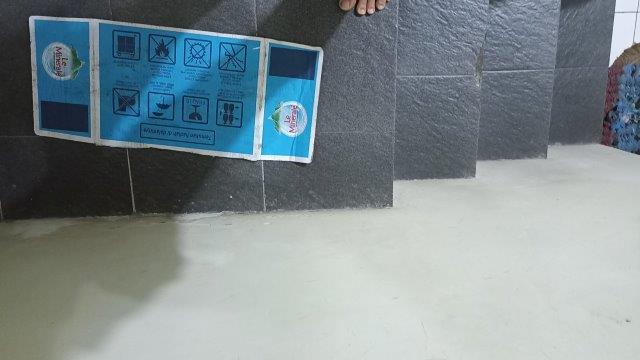kardus: (30, 17, 322, 162)
